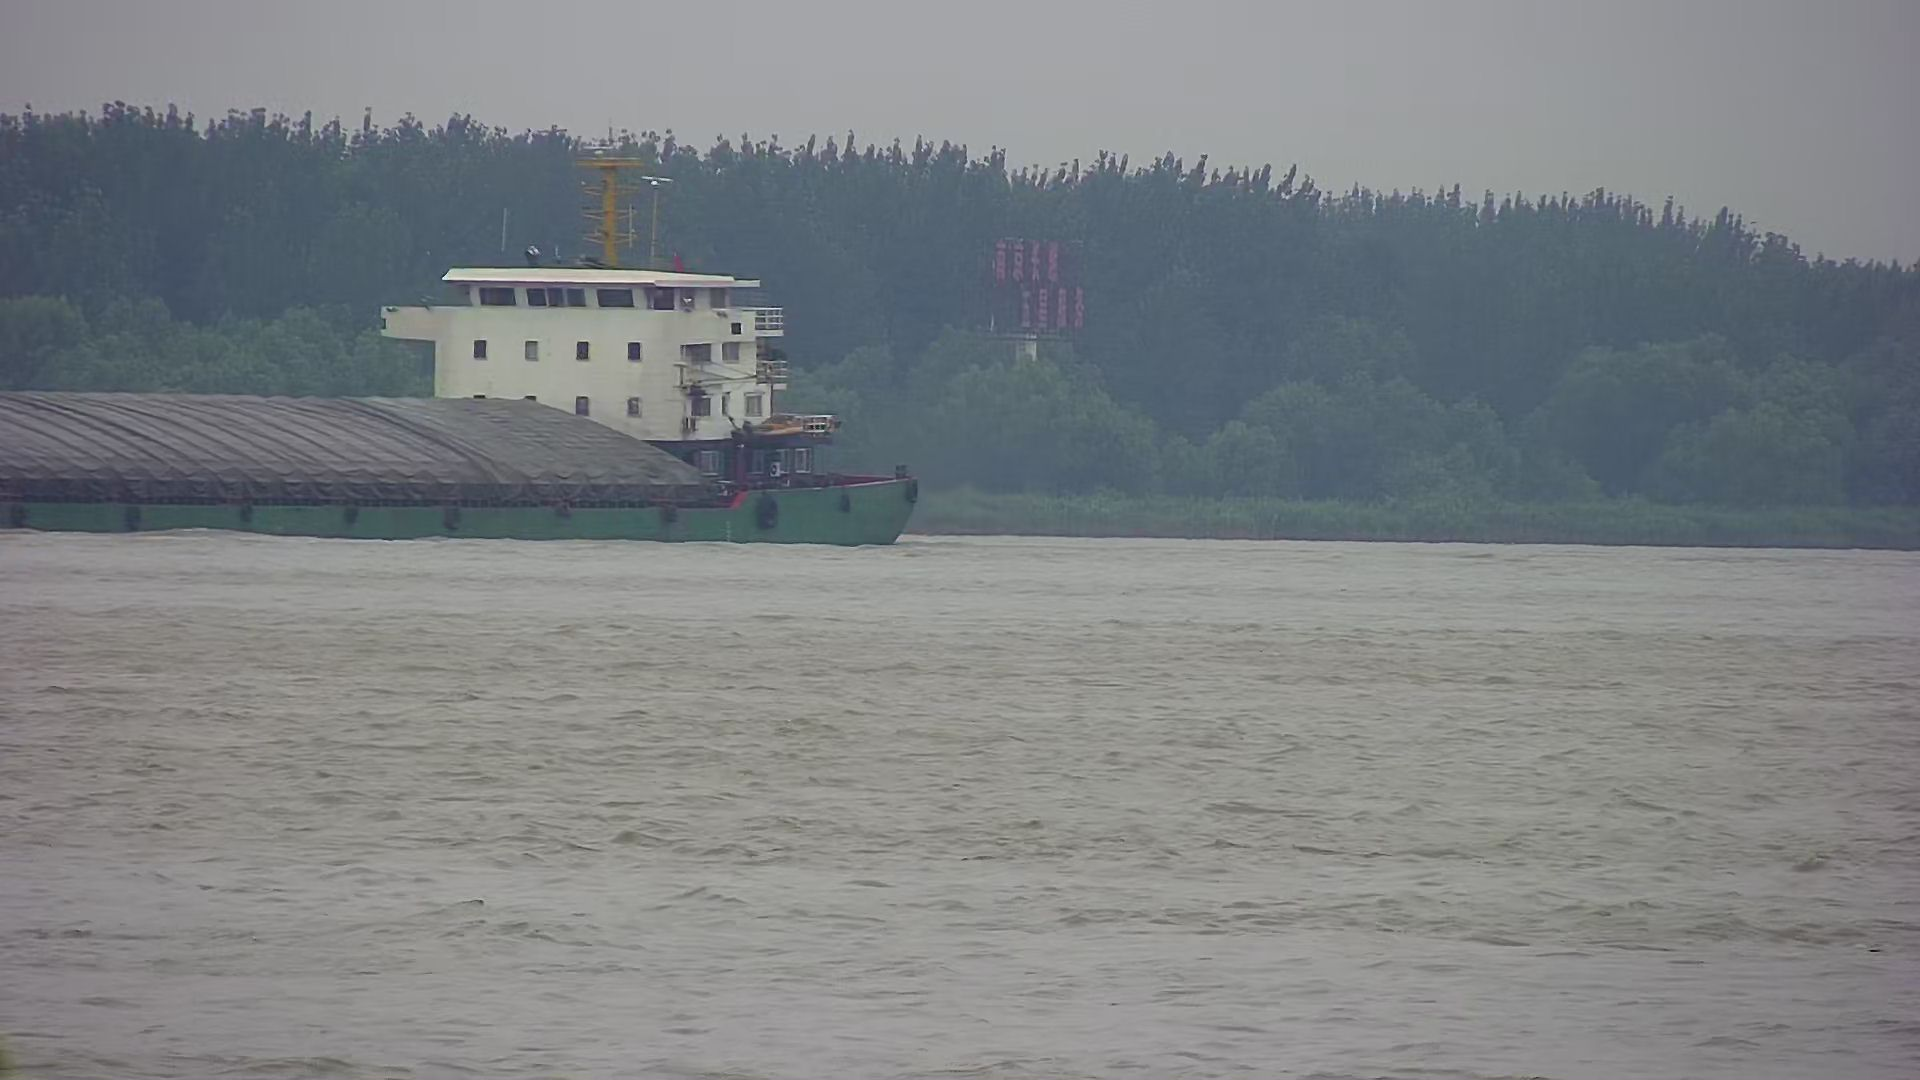ship: (3, 251, 918, 546)
